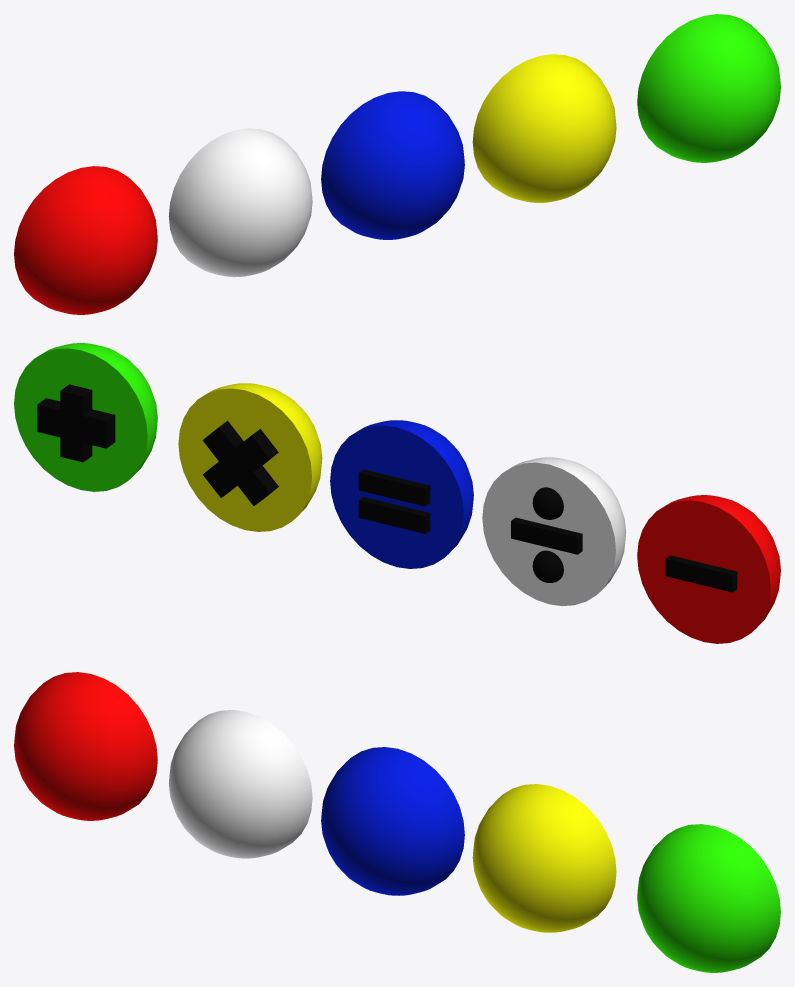
The model's file is bolaoperator.fbx.
The picture shows the model from 3 angles, top to bottom: view 1: azimuth 30°, elevation 25°; view 2: azimuth 150°, elevation 25°; view 3: azimuth 330°, elevation 25°; orthographic projection.
Visible parts, largest first — view 1: Sphere.001, Sphere.003, Sphere, Sphere.002, Sphere.006; view 2: Sphere.006, Sphere.002, Sphere.003, Sphere, Sphere.001, Cube.002, Cube.001, Cube, Cube.003, Cube.004, Cube.005, Sphere.005 (+1 smaller); view 3: Sphere.003, Sphere.006, Sphere.001, Sphere.002, Sphere.
Part boxes in pixels (x1,y1,x2,y2): Sphere.001: [472, 54, 616, 202]; Sphere.003: [168, 128, 312, 277]; Sphere: [637, 14, 780, 162]; Sphere.002: [321, 91, 464, 239]; Sphere.006: [14, 166, 157, 314]; Sphere.006: [637, 495, 780, 643]; Sphere.002: [330, 420, 473, 568]; Sphere.003: [482, 457, 626, 606]; Sphere: [14, 343, 157, 491]; Sphere.001: [178, 383, 322, 531]; Cube.002: [202, 421, 278, 505]; Cube.001: [37, 384, 115, 462]; Cube: [358, 469, 430, 506]; Cube.003: [358, 497, 430, 533]; Cube.004: [665, 555, 737, 592]; Cube.005: [511, 517, 582, 554]; Sphere.005: [532, 550, 563, 582]; Sphere.003: [168, 709, 312, 858]; Sphere.006: [14, 672, 157, 820]; Sphere.001: [472, 784, 616, 932]; Sphere.002: [321, 747, 464, 895]; Sphere: [637, 824, 780, 972].
Size of the model in its own units: 1132 by 200 by 123.
